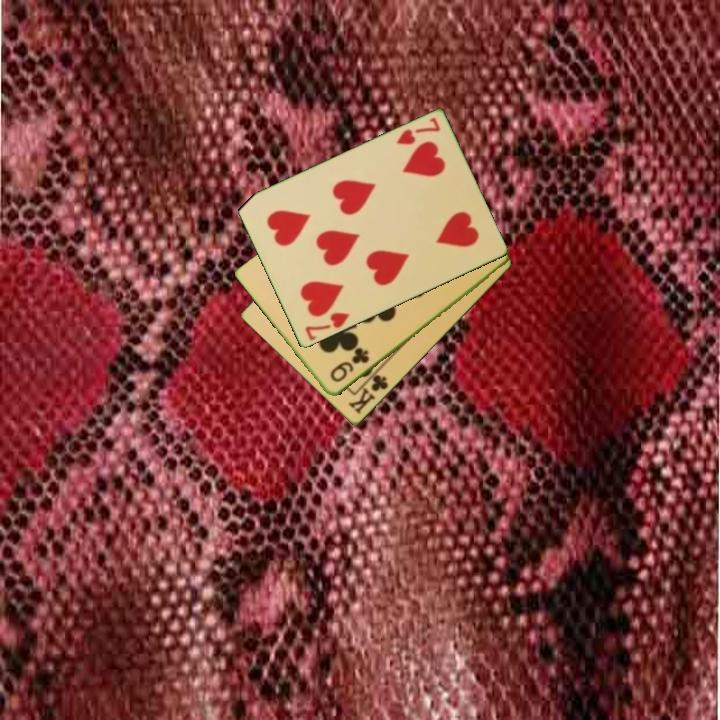7h: (301, 309, 353, 344), (392, 114, 443, 148)
9c: (326, 345, 372, 386)
Kc: (345, 366, 391, 418)
